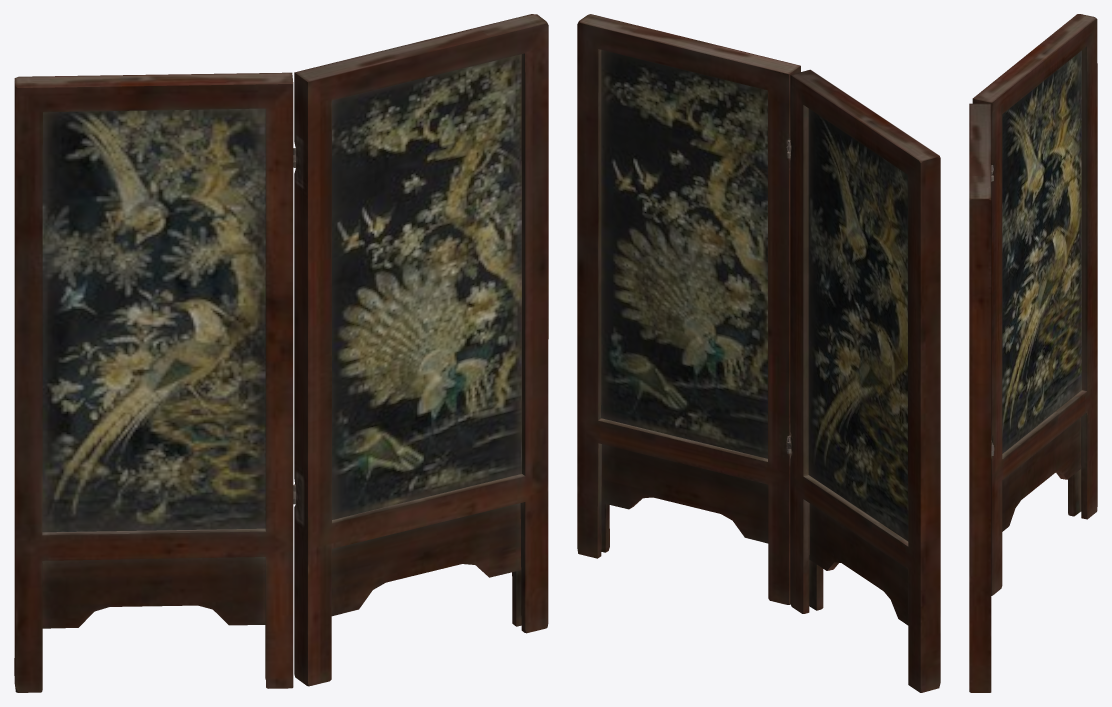
The model's file is chinese_screen_panels.glb.
3 renders of one model, left to right at view 1: azimuth 30°, elevation 25°; view 2: azimuth 150°, elevation 25°; view 3: azimuth 270°, elevation 25°, orthographic. The views are drawn at different scales.
Visible parts, largest first — view 1: chinese_screen_panels_b, chinese_screen_panels_a; view 2: chinese_screen_panels_a, chinese_screen_panels_b; view 3: chinese_screen_panels_b, chinese_screen_panels_a.
Boxes of the visible parts, x1,y1,x2,y2 form: chinese_screen_panels_b: [14, 72, 295, 692]; chinese_screen_panels_a: [293, 14, 548, 686]; chinese_screen_panels_a: [577, 14, 800, 604]; chinese_screen_panels_b: [786, 69, 940, 692]; chinese_screen_panels_b: [972, 14, 1097, 595]; chinese_screen_panels_a: [969, 103, 993, 692].
Size of the model in its own units: 1.29 by 1.6 by 0.3769.
Materials: 1 (1 with a texture image).
